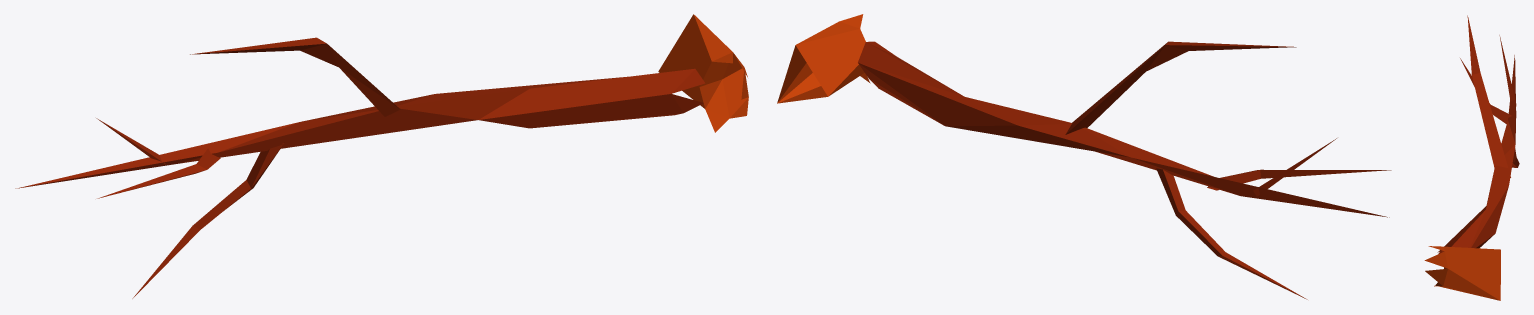
File: fallen tree obstacle.fbx
3 views of the same model, side by side, from view 1: azimuth 30°, elevation 25°; view 2: azimuth 150°, elevation 25°; view 3: azimuth 270°, elevation 25° (orthographic). The views are drawn at different scales.
Parts seen in each view (by area): view 1: FallenTree_1_2_LOD1_2; view 2: FallenTree_1_2_LOD1_2; view 3: FallenTree_1_2_LOD1_2.
Boxes of the visible parts, <box> form: FallenTree_1_2_LOD1_2: <box>15,14,748,298</box>; FallenTree_1_2_LOD1_2: <box>777,14,1391,299</box>; FallenTree_1_2_LOD1_2: <box>1424,15,1519,300</box>.
Bounding box in the file's own units: 2755 × 974 × 515.
